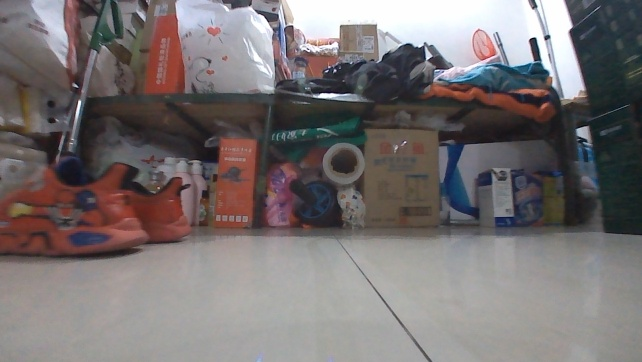shoe: (0, 155, 195, 259)
